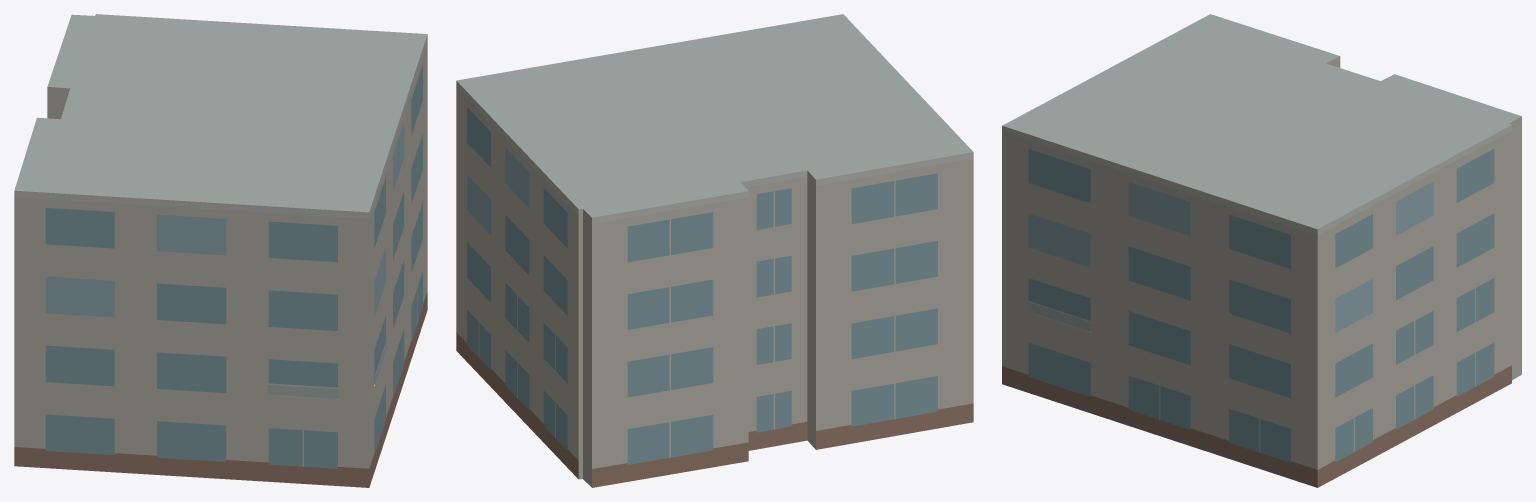
The model's file is survey-upis-32892547.glb.
The picture shows the model from 3 angles, left to right: view 1: azimuth 30°, elevation 25°; view 2: azimuth 150°, elevation 25°; view 3: azimuth 270°, elevation 25°; orthographic projection. The views are drawn at different scales.
Visible parts, largest first — view 1: survey-upis-32892547.tmp; view 2: survey-upis-32892547.tmp; view 3: survey-upis-32892547.tmp.
Part boxes in pixels (x1=…): survey-upis-32892547.tmp: x1=14, y1=14, x2=427, y2=487; survey-upis-32892547.tmp: x1=456, y1=14, x2=973, y2=487; survey-upis-32892547.tmp: x1=1002, y1=14, x2=1521, y2=487.
Bounding box in the file's own units: 18.77 × 10.5 × 19.14.
